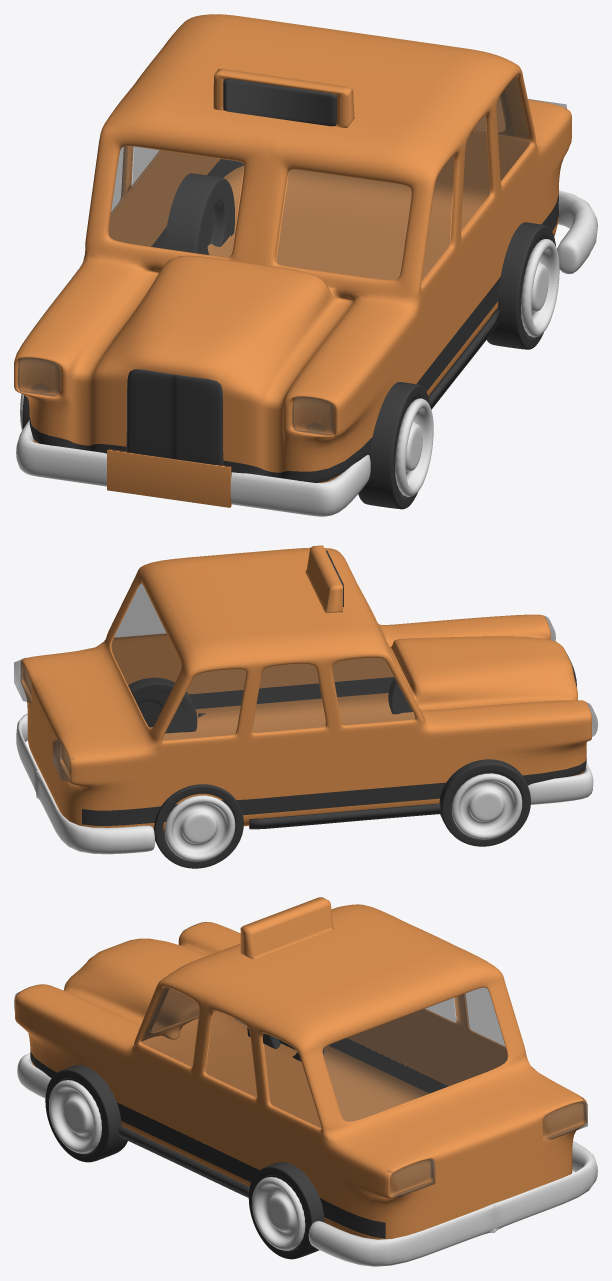
The model's file is taxi-3d-animated-icon-160073704785.glb.
3 views of the same model, one above another, from view 1: azimuth 30°, elevation 25°; view 2: azimuth 150°, elevation 25°; view 3: azimuth 270°, elevation 25° (orthographic). The views are drawn at different scales.
Parts seen in each view (by area): view 1: body, glass, tire.004, tire.006, plate, tire, lamp; view 2: body, glass, tire.002, tire, tire.006, lamp, tire.004; view 3: body, glass, tire.004, tire.006, lamp.
Part boxes in pixels (left/top/right/bottom): body: left=14, top=14, right=597, bottom=516; glass: left=109, top=76, right=529, bottom=280; tire.004: left=358, top=382, right=433, bottom=509; tire.006: left=487, top=222, right=559, bottom=349; plate: left=107, top=449, right=231, bottom=507; tire: left=164, top=173, right=234, bottom=254; lamp: left=17, top=99, right=566, bottom=435; body: left=16, top=545, right=593, bottom=854; glass: left=111, top=583, right=414, bottom=740; tire.002: left=439, top=759, right=530, bottom=846; tire: left=154, top=784, right=243, bottom=868; tire.006: left=128, top=677, right=197, bottom=733; lamp: left=14, top=616, right=597, bottom=781; tire.004: left=388, top=678, right=412, bottom=714; body: left=15, top=897, right=597, bottom=1266; glass: left=141, top=987, right=507, bottom=1127; tire.004: left=45, top=1065, right=127, bottom=1162; tire.006: left=248, top=1162, right=324, bottom=1259; lamp: left=14, top=929, right=587, bottom=1197.
Bounding box in the file's own units: 2.88 × 1.3 × 2.76.
